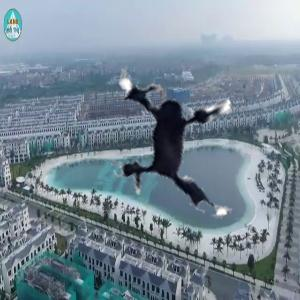drone: (84, 36, 288, 240)
